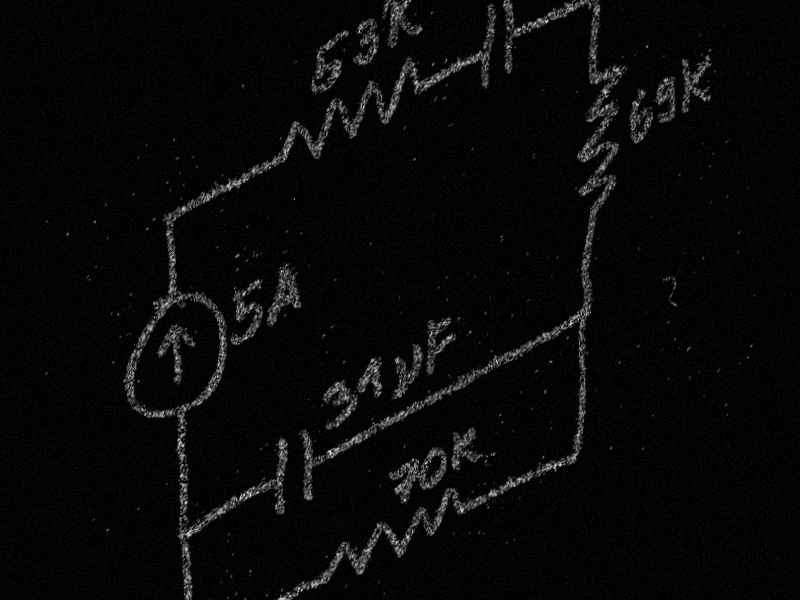0: (416, 441, 450, 495)
1: (353, 348, 388, 411)
3: (317, 369, 361, 438), (350, 11, 382, 73)
5: (306, 26, 354, 100), (226, 272, 268, 351)
6: (623, 81, 659, 151)
7: (384, 451, 424, 516)
9: (651, 69, 682, 131)
A: (263, 256, 303, 329)
F: (422, 305, 459, 379)
k: (675, 40, 717, 122), (379, 0, 427, 57), (448, 416, 483, 477)
u: (388, 338, 426, 401)
